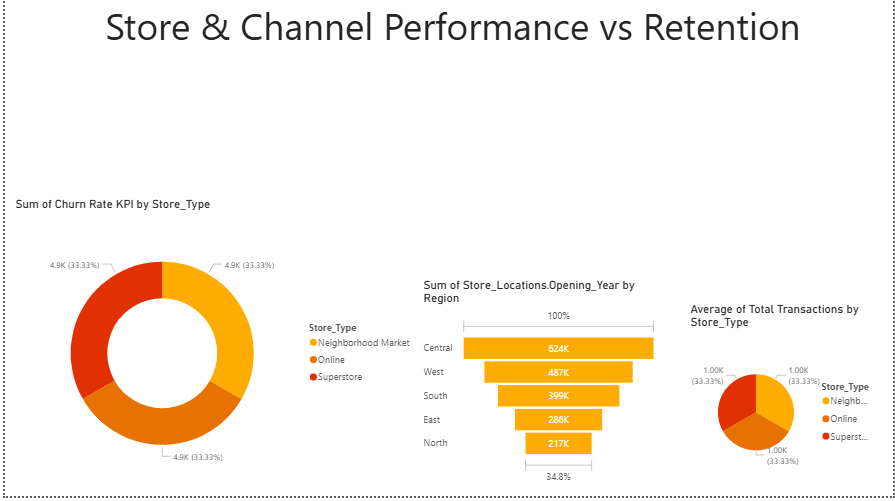

This screenshot's page, from the dashboard's own definition file:
{"tool":"powerbi","page":{"name":"T5","canvas":[1280,720],"ordinal":3},"visuals":[{"type":"pieChart","fields":{"Category":["Store_Locations.Store_Type"],"Y":["Avg(Customer_Transactions.Total Transactions)"]},"box":[982.1,441.1,279.6,279.6],"z":0},{"type":"donutChart","fields":{"Y":["Sum(Customer_Demographics.Churn Rate KPI)"],"Category":["Store_Locations.Store_Type"]},"box":[10,289.6,587.6,431.1],"z":1000},{"type":"funnel","fields":{"Category":["Store_Locations.Region"],"Y":["Sum(Customer_Transactions.Store_Locations.Opening_Year)"]},"box":[597.6,406.1,346.2,301.3],"z":2000},{"type":"textbox","box":[10,0,1270,116.5],"z":3000}]}

Visuals, with their boxes in screenshot pixels (x1, y1, x2, y2), scaled from the page's 1280x720 canvas onto the 895x501 screenshot:
pieChart - Store_Locations.Store_Type x Avg(Customer_Transactions.Total Transactions): pyautogui.locateOnScreen(687, 307, 882, 500)
donutChart - Sum(Customer_Demographics.Churn Rate KPI) x Store_Locations.Store_Type: pyautogui.locateOnScreen(7, 202, 418, 500)
funnel - Store_Locations.Region x Sum(Customer_Transactions.Store_Locations.Opening_Year): pyautogui.locateOnScreen(418, 283, 660, 492)
textbox: pyautogui.locateOnScreen(7, 0, 894, 81)
